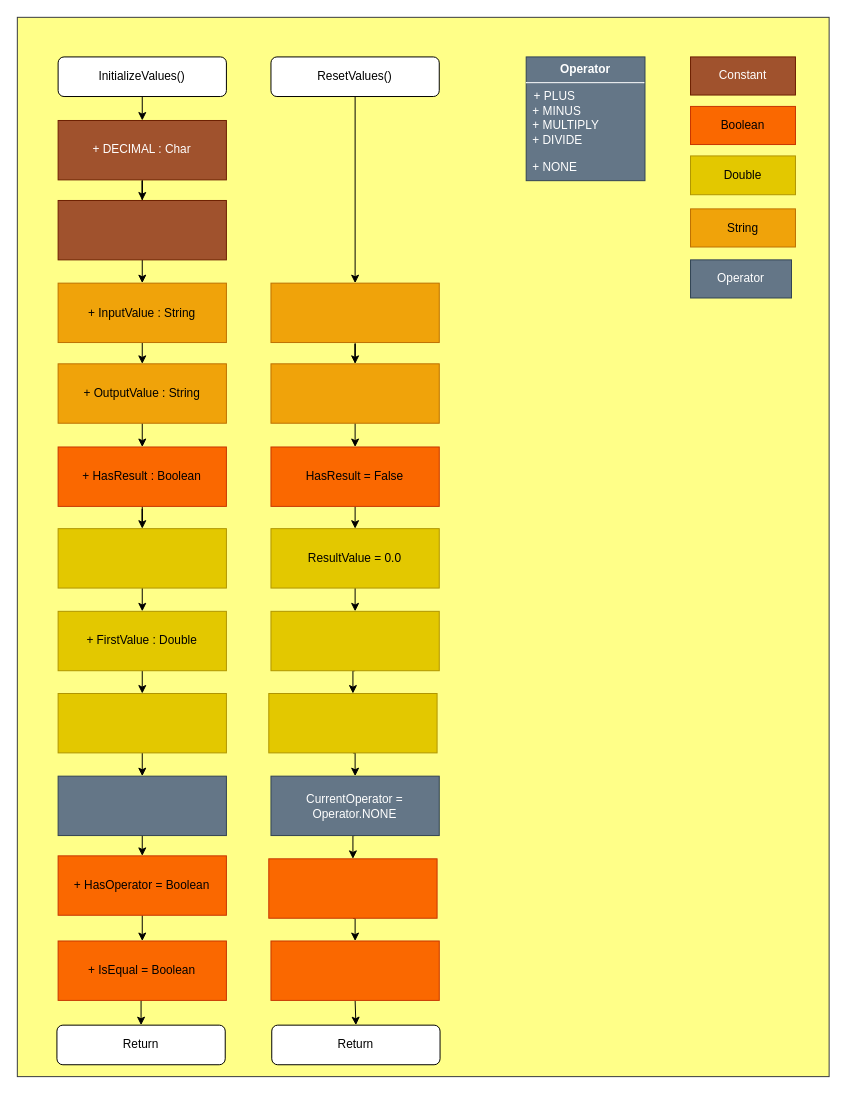
Image size: 846x1094. Some labels were removed from this diagram. The centre of each missing label's shape, as x and y in pixels:
+ CurrentOperator : Operator: (x=141, y=805)
+ MAX_OUTPUT_LENGTH: Integer: (x=141, y=229)
+ ResultValue : Double: (x=141, y=558)
+ SecondValue : Double: (x=141, y=723)
FirstValue = 0.0: (x=354, y=640)
HasOperator = False: (x=352, y=888)
InputValue = Empty: (x=354, y=312)
IsEqual = False: (x=354, y=970)
OutputValue = Empty: (x=354, y=393)
SecondValue = 0.0: (x=352, y=723)
